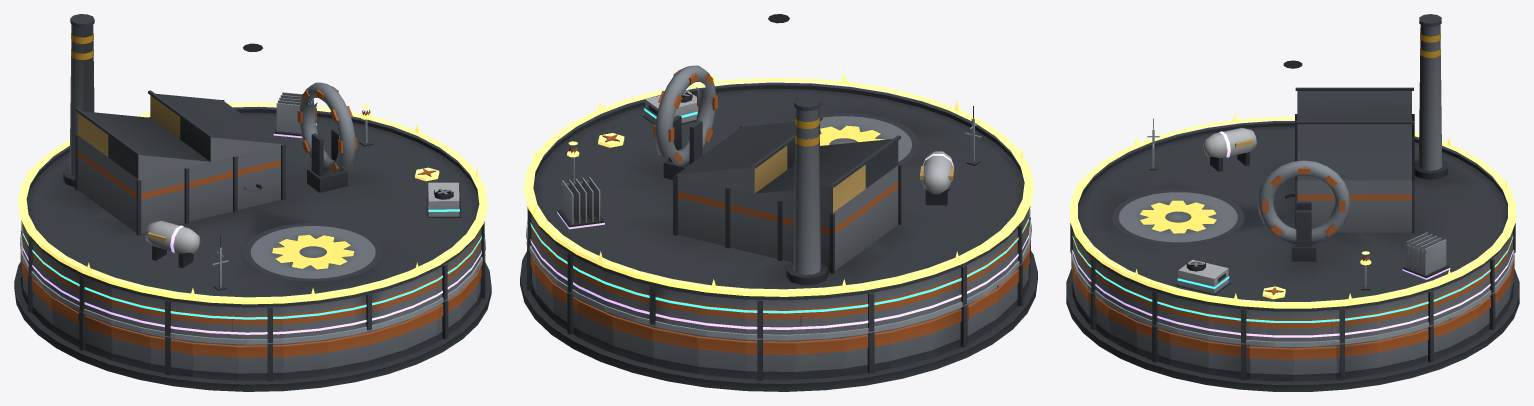
The model's file is magnet_works_m_far.glb.
3 views of the same model, side by side, from view 1: azimuth 30°, elevation 25°; view 2: azimuth 150°, elevation 25°; view 3: azimuth 270°, elevation 25° (orthographic). The views are drawn at different scales.
Parts seen in each view (by area): view 1: Roof, Base, L5, L4, L2, L3; view 2: Roof, Base, L5, L4, L2, L3; view 3: Roof, Base, L5, L4, L2, L3.
Boxes of the visible parts, x1,y1,x2,y2 form: Roof: [21, 14, 484, 342]; Base: [14, 231, 491, 391]; L5: [18, 101, 487, 304]; L4: [20, 92, 485, 334]; L2: [20, 234, 485, 344]; L3: [21, 182, 485, 319]; Roof: [527, 14, 1030, 338]; Base: [520, 217, 1037, 391]; L5: [524, 73, 1033, 296]; L4: [527, 151, 1030, 329]; L2: [526, 106, 1031, 340]; L3: [527, 89, 1030, 313]; Roof: [1070, 14, 1515, 343]; Base: [1066, 252, 1519, 391]; L5: [1070, 112, 1515, 308]; L4: [1072, 128, 1513, 337]; L2: [1071, 118, 1514, 346]; L3: [1072, 193, 1513, 322].
Size of the model in its own units: 14.75 by 8.32 by 14.75.
